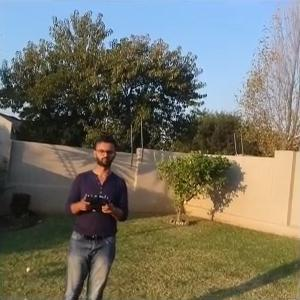follow: (60, 128, 133, 298)
